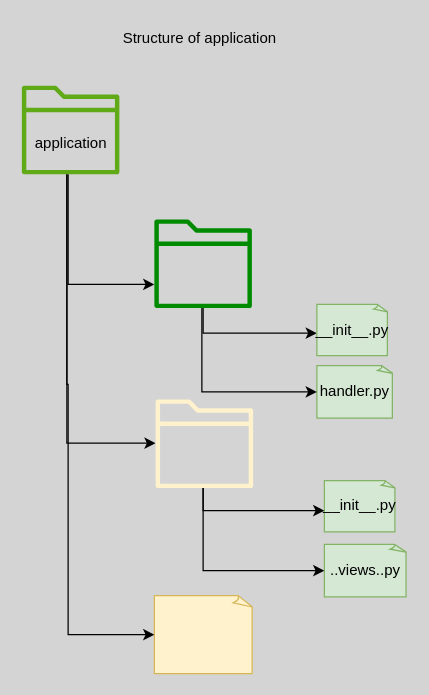
Some shapes in this 429 by 695 pixel diagram are drawn without their labels. The centre of each missing label's shape, as x and y in pixels:
"application.py" belongs at (203,634).
"Utils" belongs at (202,263).
"Views" belongs at (203,443).
